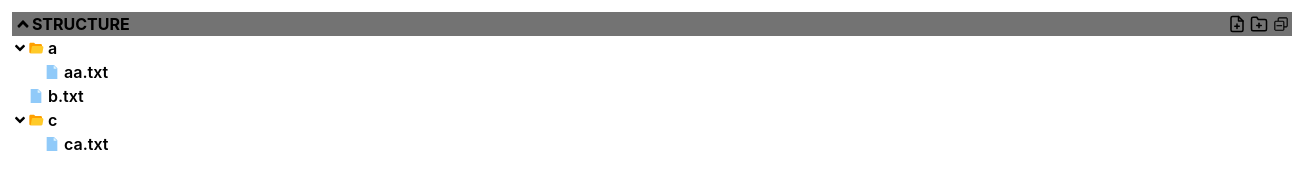
it: File layout test case › delete node button on hover
Hover over the element titled "file wrapper 11" at (35, 48), box [12,38,57,58]
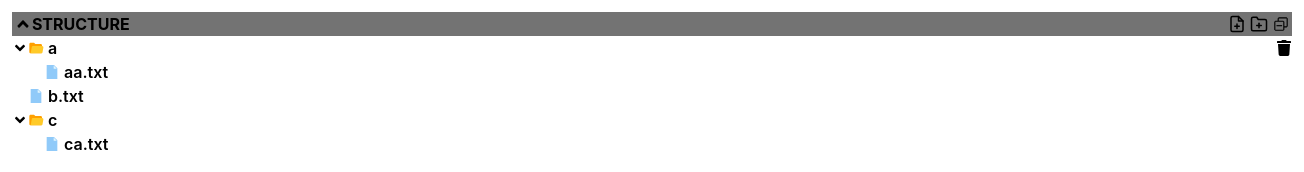
Expected: the button titled "remove" is shown, [1276,40,1292,56]
